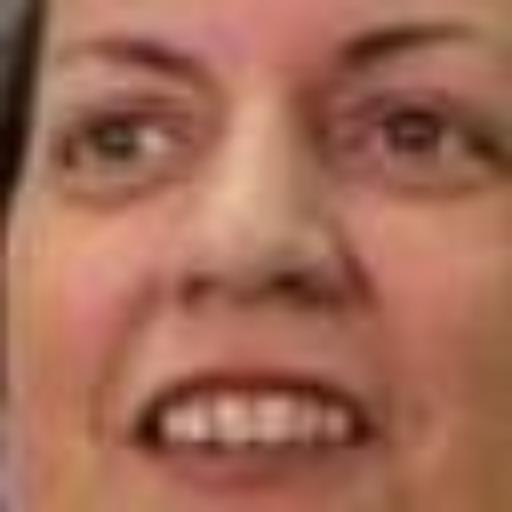left_eye: (341, 105, 489, 169)
left_lip_corner: (359, 407, 398, 463)
right_eye: (46, 109, 191, 175)
right_lip_corner: (120, 413, 167, 459)
